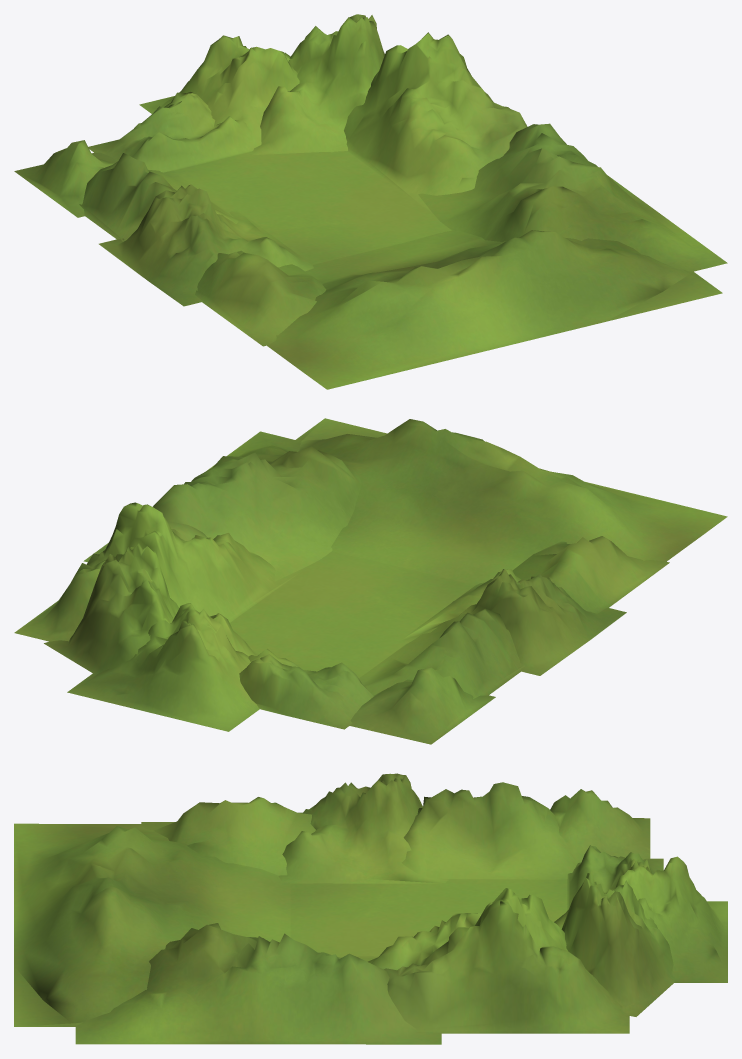
Rendered from terrain.glb.
The picture shows the model from 3 angles, top to bottom: view 1: azimuth 30°, elevation 25°; view 2: azimuth 150°, elevation 25°; view 3: azimuth 270°, elevation 25°; orthographic projection. The views are drawn at different scales.
Parts seen in each view (by area): view 1: Landscape.004; view 2: Landscape.004; view 3: Landscape.004.
Part boxes in pixels (x1=…): Landscape.004: x1=14, y1=14, x2=727, y2=389; Landscape.004: x1=14, y1=418, x2=727, y2=744; Landscape.004: x1=14, y1=773, x2=727, y2=1044.
Size of the model in its own units: 410 by 89.66 by 533.
1 material, 1 textured.
